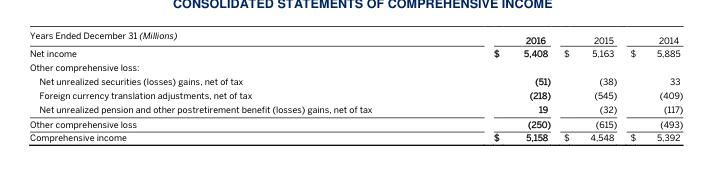table: (29, 28, 682, 142)
table column: (29, 28, 432, 142), (432, 28, 556, 142), (556, 28, 622, 142), (622, 28, 682, 142)
table column header: (29, 28, 682, 45)
table projected row header: (29, 59, 682, 73)
table row: (29, 28, 682, 45), (29, 101, 682, 116), (29, 45, 682, 59), (29, 59, 682, 73), (29, 73, 682, 87), (29, 87, 682, 101), (29, 116, 682, 130), (29, 130, 682, 142)
